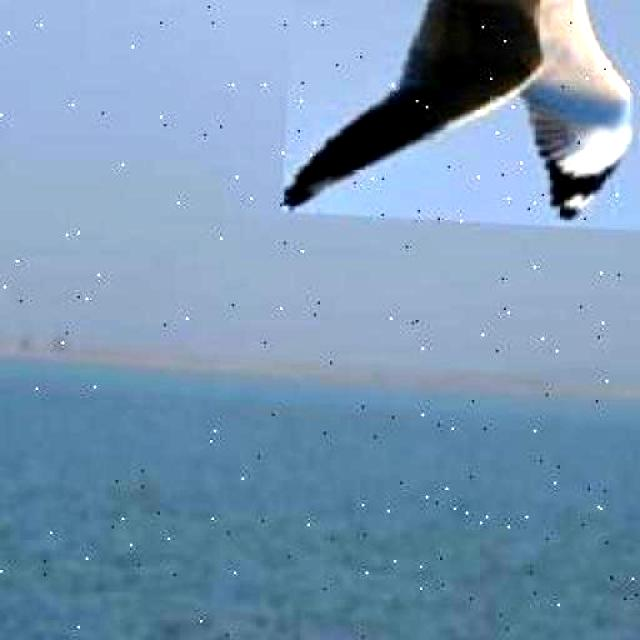airplane: (282, 0, 640, 232)
